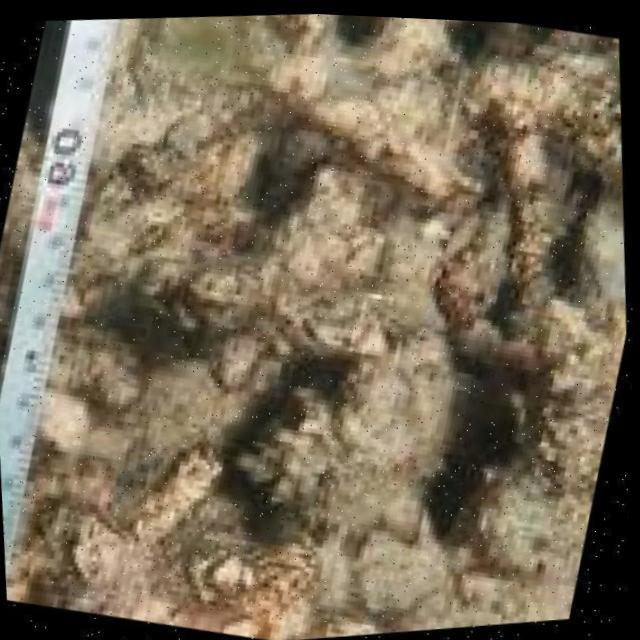Dead Coral: (83, 37, 593, 637)
